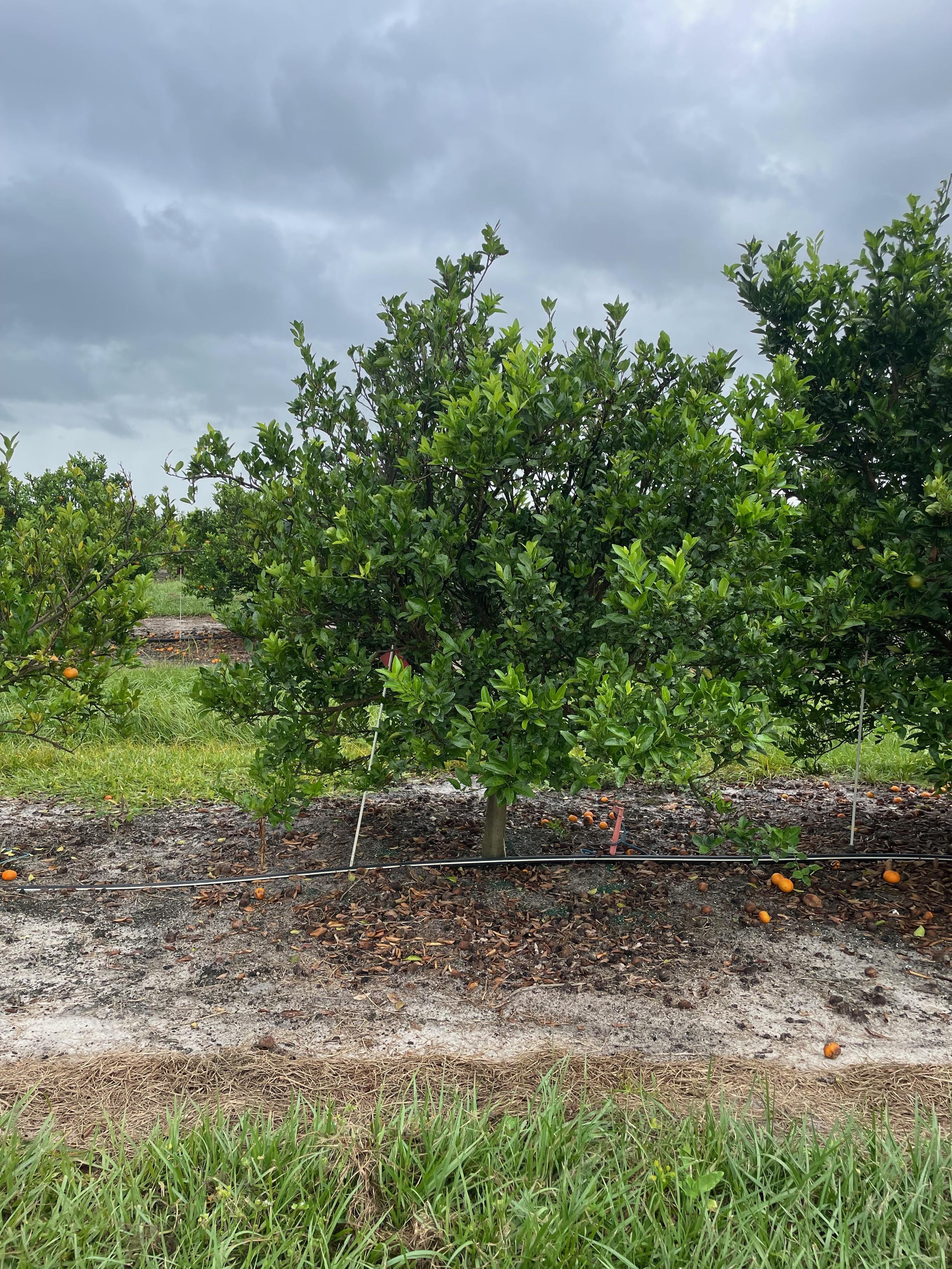fruit_on_ground: (905, 572, 926, 592), (62, 664, 80, 681)
fruit_on_tree: (822, 1040, 842, 1059), (803, 892, 824, 909), (775, 876, 796, 893), (882, 867, 902, 884), (1, 866, 18, 883), (770, 871, 786, 886), (757, 909, 772, 924), (252, 886, 266, 901), (742, 900, 757, 914), (864, 964, 879, 977), (700, 903, 713, 915), (697, 879, 709, 892), (582, 815, 594, 827), (597, 820, 609, 831), (919, 789, 931, 799), (892, 795, 903, 804), (889, 784, 900, 793), (865, 790, 876, 799), (567, 814, 578, 823), (583, 810, 594, 819), (821, 780, 831, 789), (539, 817, 550, 825), (600, 795, 609, 803), (906, 786, 916, 793), (781, 793, 789, 799)
